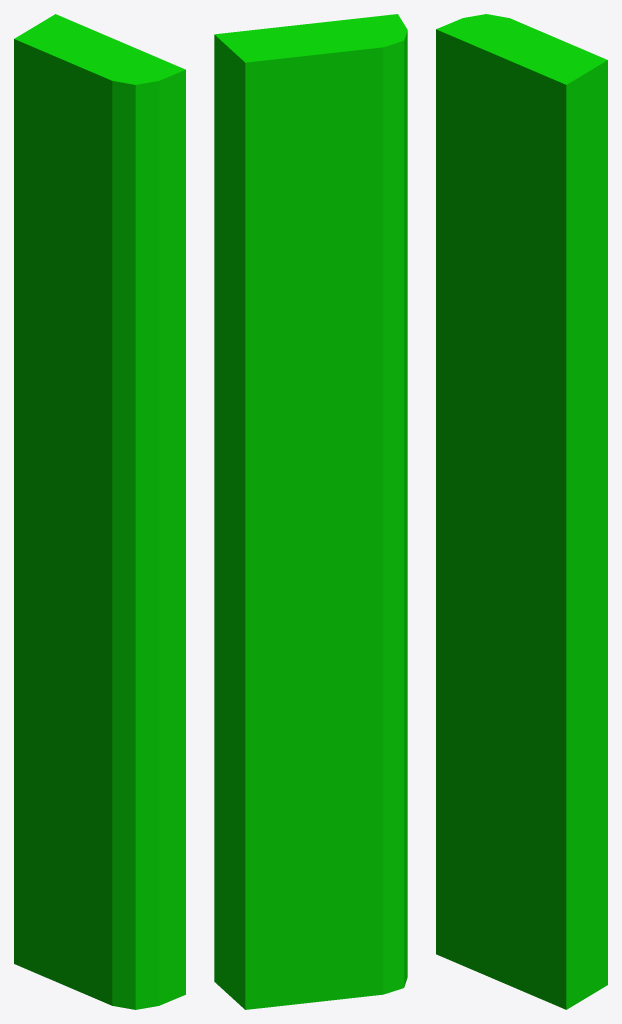
3 views of the same model, side by side, from view 1: azimuth 90°, elevation 25°; view 2: azimuth 150°, elevation 25°; view 3: azimuth 270°, elevation 25° (orthographic). The views are drawn at different scales.
Visible parts, largest first — view 1: Cube.034; view 2: Cube.034; view 3: Cube.034.
Part boxes in pixels (x1=…): Cube.034: x1=14, y1=14, x2=185, y2=1009; Cube.034: x1=214, y1=14, x2=407, y2=1009; Cube.034: x1=436, y1=14, x2=607, y2=1009.
Bounding box in the file's own units: 1396 × 8485 × 1429.
